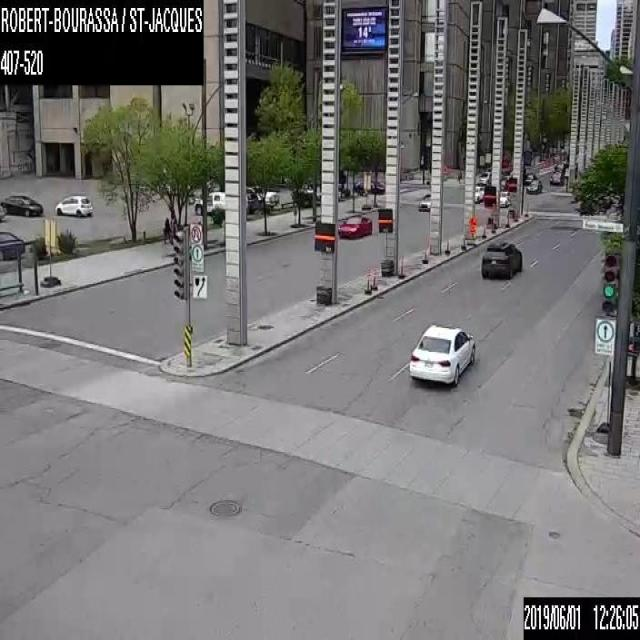construction: (468, 213, 475, 244), (398, 255, 406, 277), (420, 242, 428, 262), (363, 276, 370, 294), (444, 240, 450, 255), (482, 221, 486, 236), (525, 203, 528, 216), (506, 212, 509, 224), (462, 237, 465, 248)
pedestrian: (170, 209, 178, 242), (162, 214, 171, 243)
vehicle: (408, 320, 477, 387), (480, 238, 522, 278), (337, 210, 372, 239), (1, 193, 44, 216), (54, 193, 92, 215), (194, 190, 224, 214), (251, 183, 278, 209), (0, 231, 23, 260), (356, 180, 384, 192), (245, 188, 258, 212), (417, 190, 429, 210), (525, 180, 543, 193), (549, 169, 563, 184), (478, 170, 491, 184), (499, 190, 509, 207), (474, 185, 483, 203), (500, 174, 511, 188), (524, 172, 536, 184), (371, 276, 377, 287)
